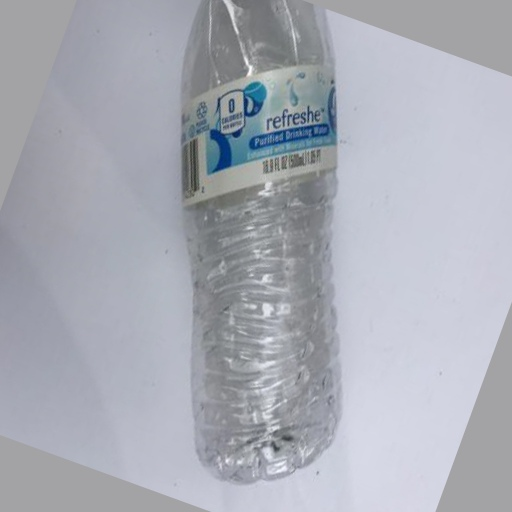Plastic_0: (179, 2, 339, 480)
